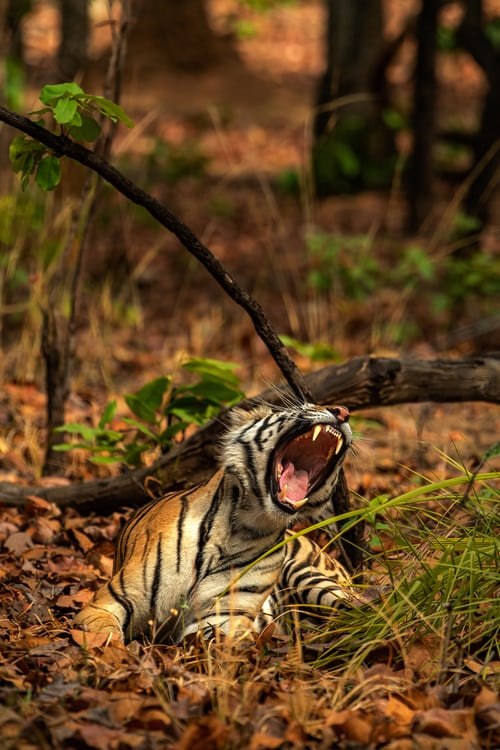tiger: (223, 400, 360, 537)
